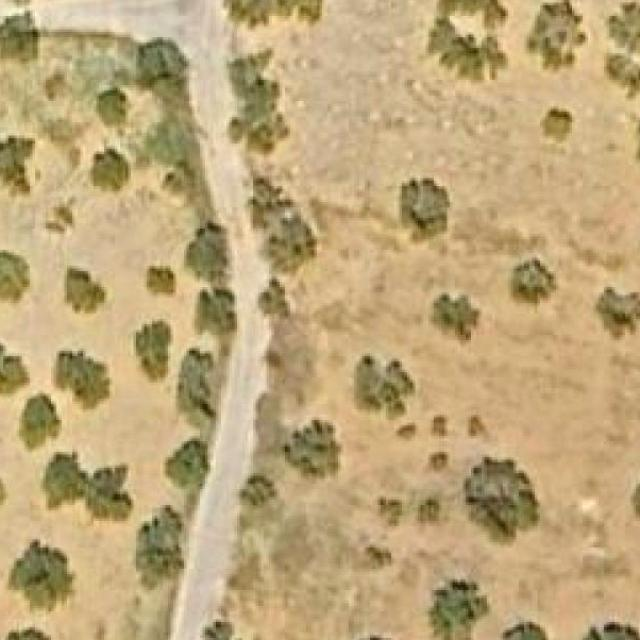Tree: (464, 455, 541, 545), (227, 48, 290, 154), (429, 0, 508, 82), (5, 537, 78, 614), (343, 354, 416, 423), (524, 0, 585, 75), (423, 579, 490, 640), (136, 505, 184, 588), (51, 351, 113, 412), (280, 420, 341, 478), (266, 212, 317, 276), (402, 178, 450, 239), (223, 0, 322, 29), (88, 462, 136, 521), (178, 349, 216, 423), (182, 220, 227, 282), (44, 452, 89, 513), (14, 391, 59, 450), (428, 294, 479, 346), (593, 287, 640, 343), (505, 258, 556, 308), (251, 173, 293, 230), (134, 321, 171, 383), (65, 266, 110, 314), (166, 441, 208, 487), (136, 42, 182, 83), (154, 157, 195, 203), (0, 249, 32, 305), (601, 53, 640, 98), (240, 476, 278, 522), (90, 149, 131, 191), (607, 4, 640, 56), (195, 289, 235, 330), (0, 341, 30, 394), (0, 138, 28, 189), (258, 280, 290, 322), (540, 106, 575, 142), (580, 622, 640, 640), (497, 622, 554, 640), (96, 90, 126, 122), (146, 266, 176, 296), (418, 494, 448, 524), (378, 496, 403, 526), (197, 622, 237, 640), (0, 627, 51, 640), (430, 414, 450, 436), (632, 464, 640, 517), (396, 422, 418, 441), (469, 414, 485, 436), (0, 465, 6, 518), (432, 452, 448, 471)
